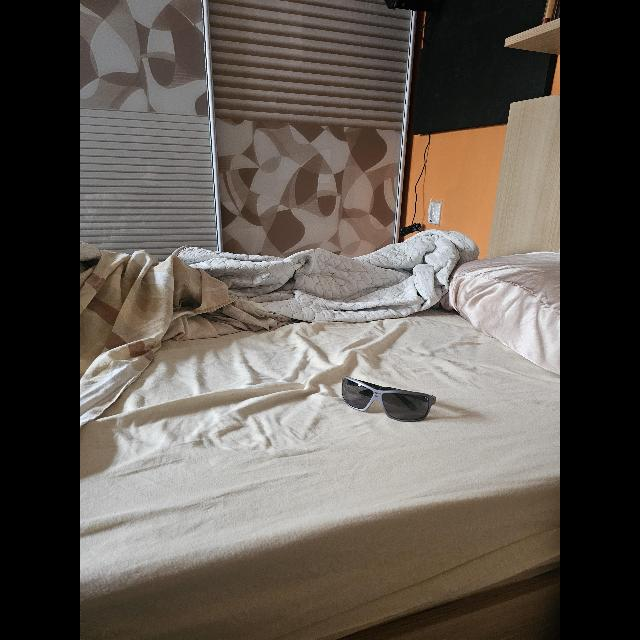Sunglasses: (342, 376, 436, 422)
